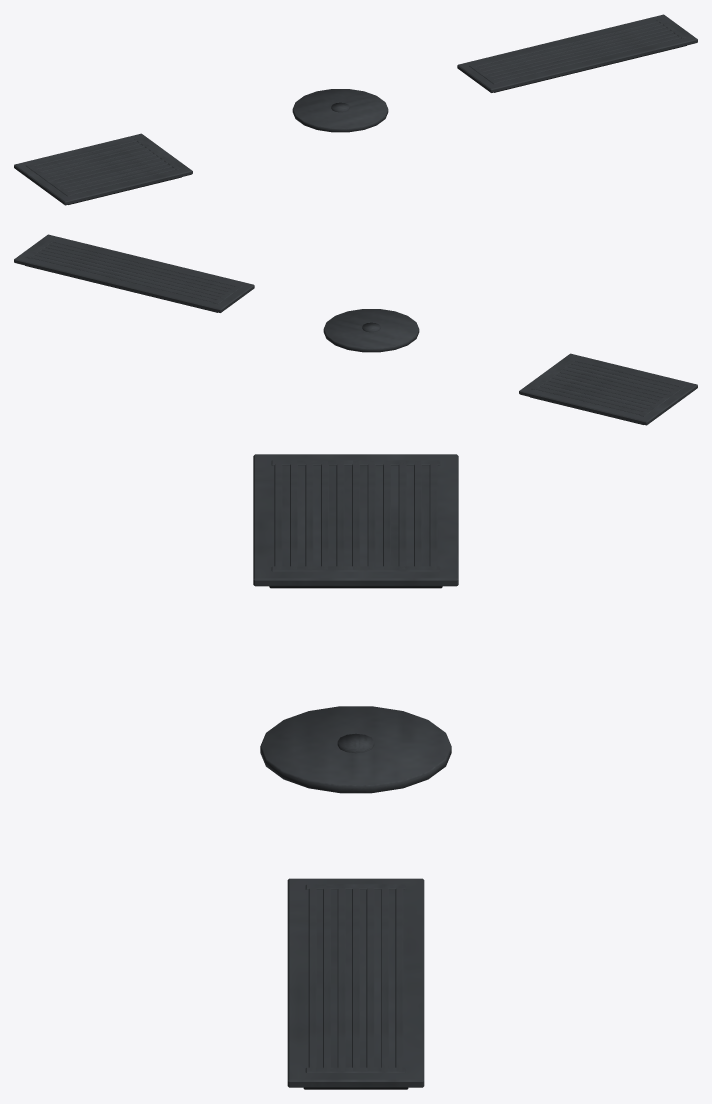
File: steam_vent.glb
The picture shows the model from 3 angles, top to bottom: view 1: azimuth 30°, elevation 25°; view 2: azimuth 150°, elevation 25°; view 3: azimuth 270°, elevation 25°; orthographic projection. The views are drawn at different scales.
Visible parts, largest first — view 1: steam_vent_v3, steam_vent_v1, steam_vent_v2; view 2: steam_vent_v3, steam_vent_v1, steam_vent_v2; view 3: steam_vent_v3, steam_vent_v1, steam_vent_v2.
Boxes of the visible parts, x1,y1,x2,y2 form: steam_vent_v3: (457,14,697,92); steam_vent_v1: (14,133,192,205); steam_vent_v2: (292,89,388,132); steam_vent_v3: (14,234,254,312); steam_vent_v1: (519,353,697,425); steam_vent_v2: (323,309,419,352); steam_vent_v3: (287,878,424,1089); steam_vent_v1: (253,454,458,588); steam_vent_v2: (260,706,451,793).
Size of the model in its own units: 6.5 by 0.11 by 0.9.
2 materials, 2 textured.
